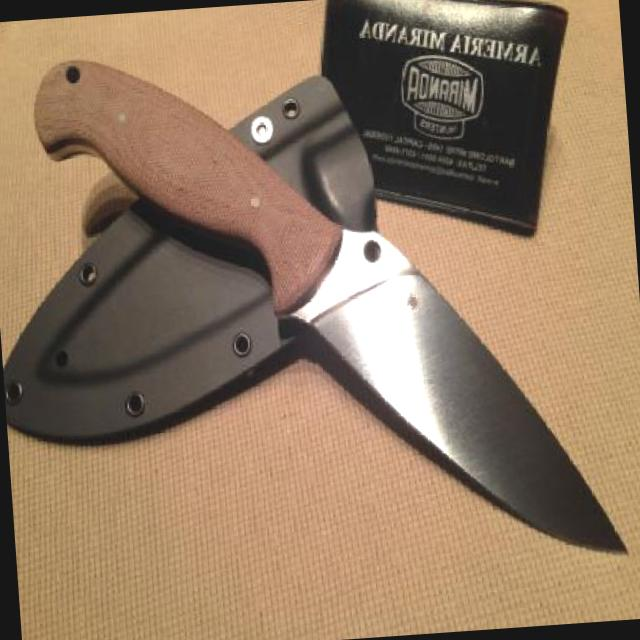knife: (262, 186, 636, 584)
